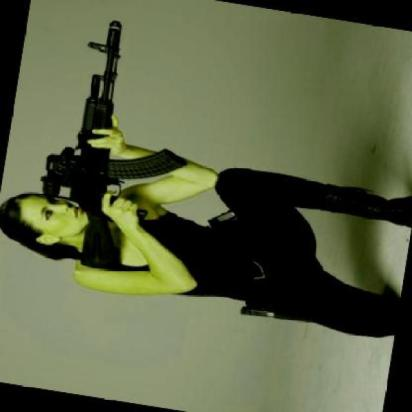Gun: (43, 24, 180, 261)
